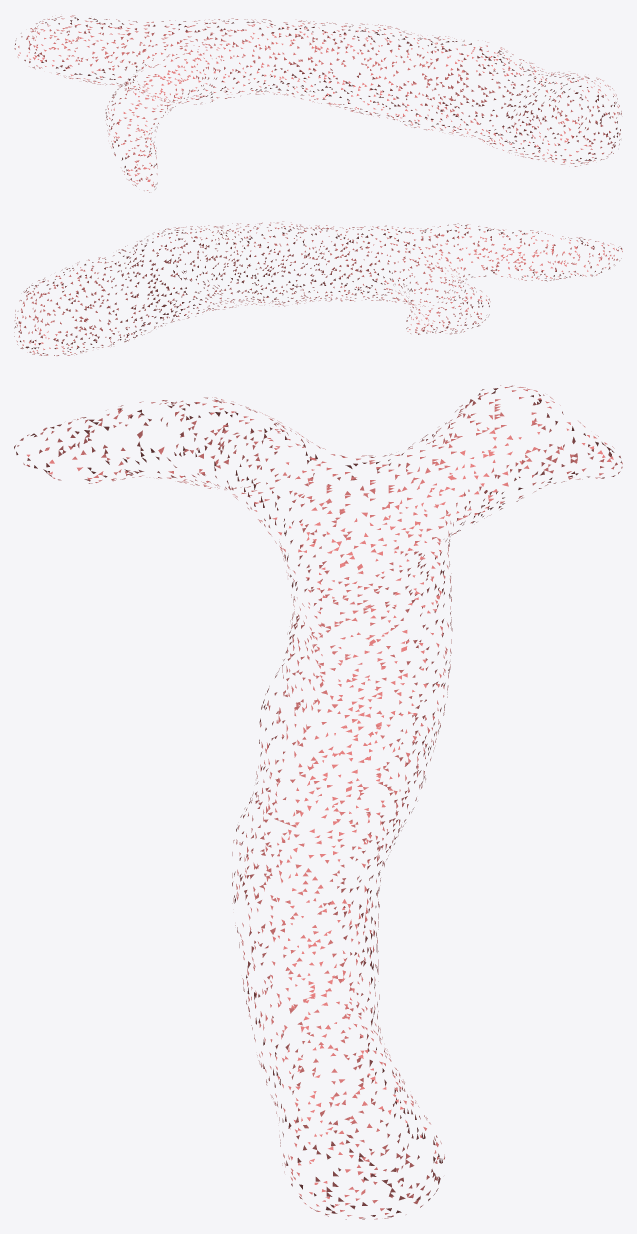
The model's file is morph_000.glb.
3 views of the same model, one above another, from view 1: azimuth 30°, elevation 25°; view 2: azimuth 150°, elevation 25°; view 3: azimuth 270°, elevation 25° (orthographic). The views are drawn at different scales.
Size of the model in its own units: 141 by 52.78 by 73.26.
